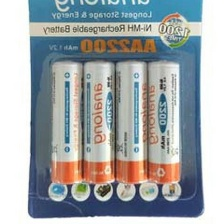battery: (47, 57, 88, 188), (113, 57, 151, 186), (145, 57, 183, 186), (81, 57, 117, 188)
